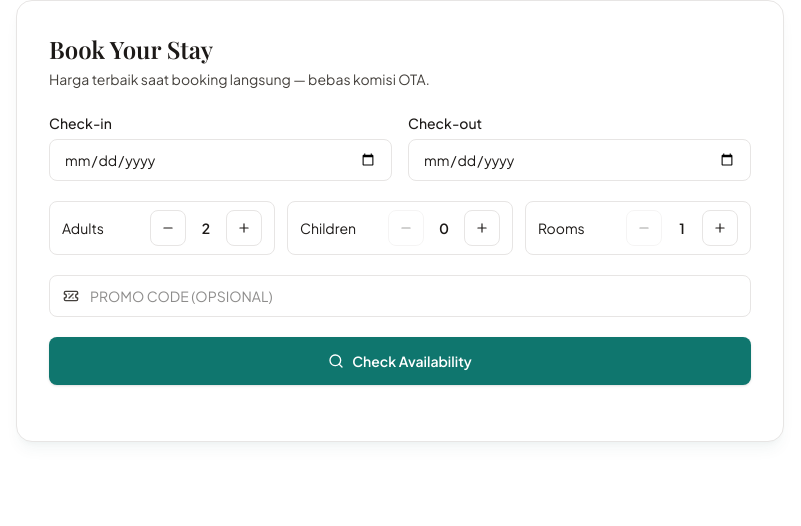
Test case: TEST-003 — BookingWidget › submit kosong → pesan validasi muncul (state invalid)
Click the button "Check Availability" at (400, 361), box [49,337,751,385]
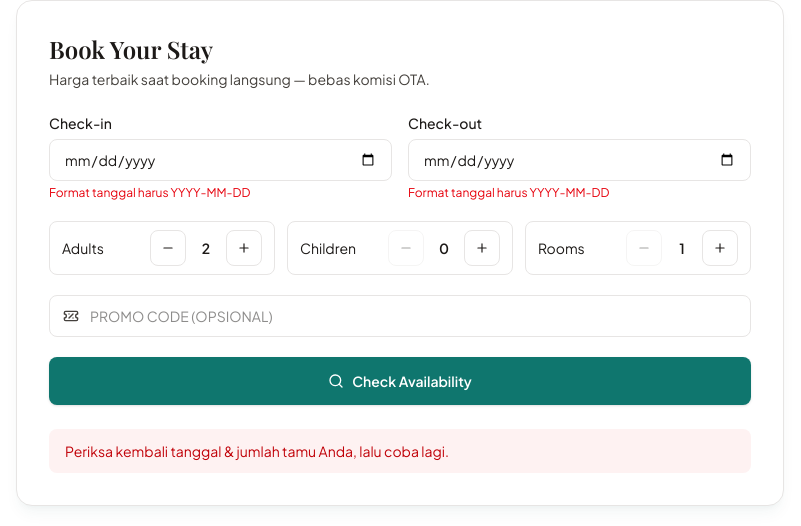
Expected: the text "Periksa kembali tanggal & jumlah tamu Anda, lalu coba lagi." is shown, [49,429,751,473]
